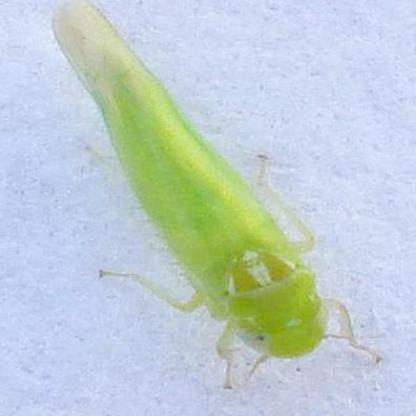green-leafhopper: (52, 1, 389, 390)
